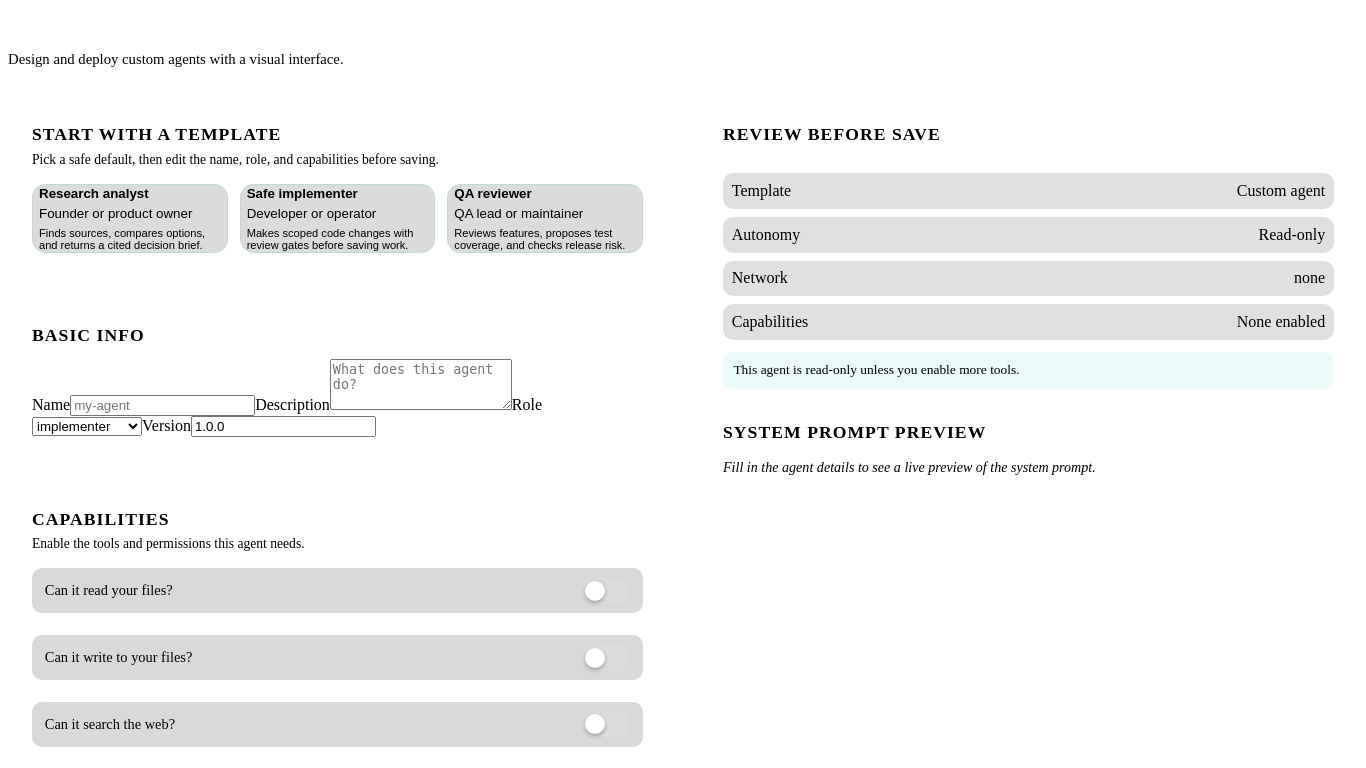
Test: AgentBuilderPage › validates agent name format
The image size is (1366, 768).
Type "Bad Name!" into the field with placeholder "my-agent" at (163, 405), box [70,395,255,416]
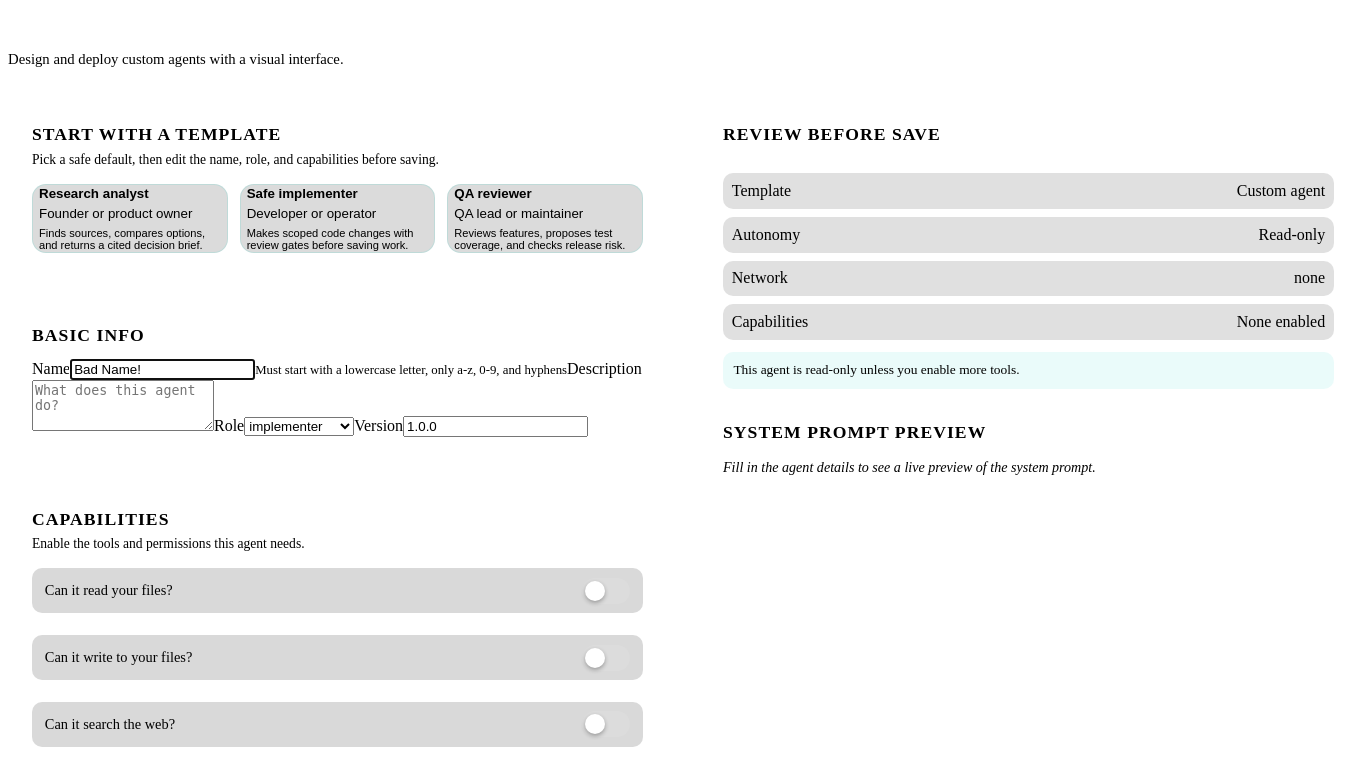
Result: the message shows "Must start with a lowercase letter" at [255,363,567,377]
